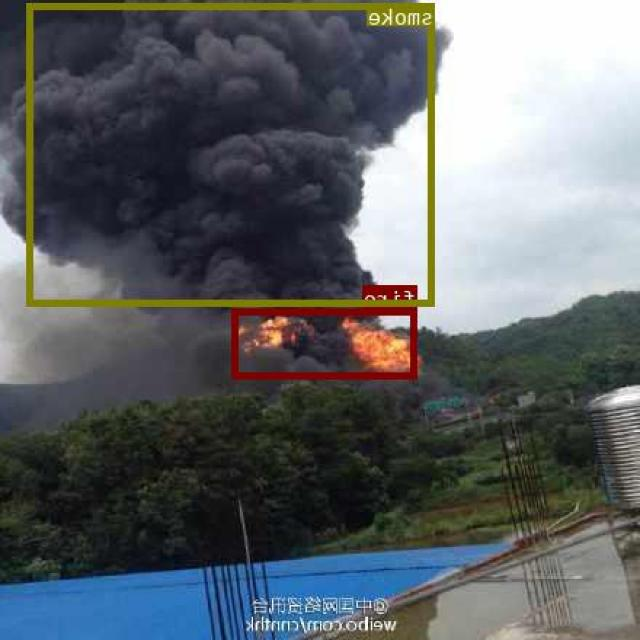fire: (233, 307, 419, 378)
smoke: (28, 2, 435, 306)
